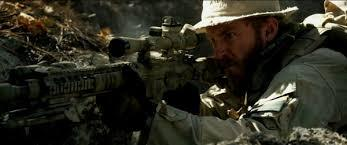rifle: (0, 17, 226, 114)
